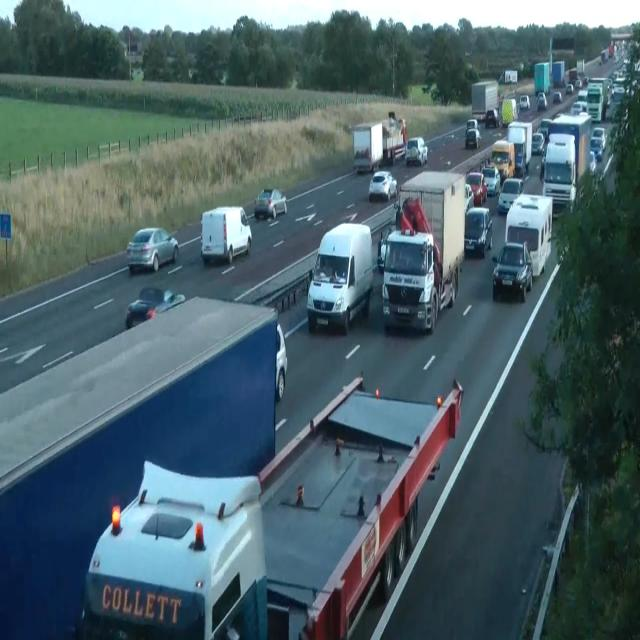bus: (125, 286, 185, 330), (491, 241, 533, 302), (126, 226, 179, 274), (253, 188, 287, 220), (497, 177, 523, 214), (275, 322, 287, 402), (368, 170, 397, 202), (465, 172, 487, 206), (377, 228, 392, 274), (481, 164, 501, 197), (465, 127, 481, 149), (589, 136, 603, 161), (464, 182, 474, 214), (531, 132, 545, 154), (538, 118, 552, 140), (592, 127, 606, 149), (485, 108, 499, 127), (571, 100, 587, 114), (588, 149, 596, 176), (130, 68, 144, 82), (537, 92, 547, 110), (466, 118, 479, 131), (520, 94, 530, 110), (577, 89, 587, 102), (553, 91, 561, 103), (565, 84, 573, 94)
car: (80, 374, 463, 638), (80, 458, 268, 638), (306, 222, 374, 334)
jeep: (200, 204, 252, 265), (541, 132, 577, 207), (463, 205, 492, 257), (404, 136, 428, 165)
minibus: (0, 294, 286, 639), (381, 170, 465, 333), (541, 111, 593, 214), (504, 193, 552, 276), (351, 111, 407, 173), (351, 122, 383, 172), (506, 120, 532, 174), (382, 111, 406, 165), (471, 79, 499, 125), (490, 140, 515, 184), (586, 77, 610, 122), (534, 61, 550, 95), (501, 98, 517, 128), (552, 61, 564, 87), (498, 70, 518, 84)
